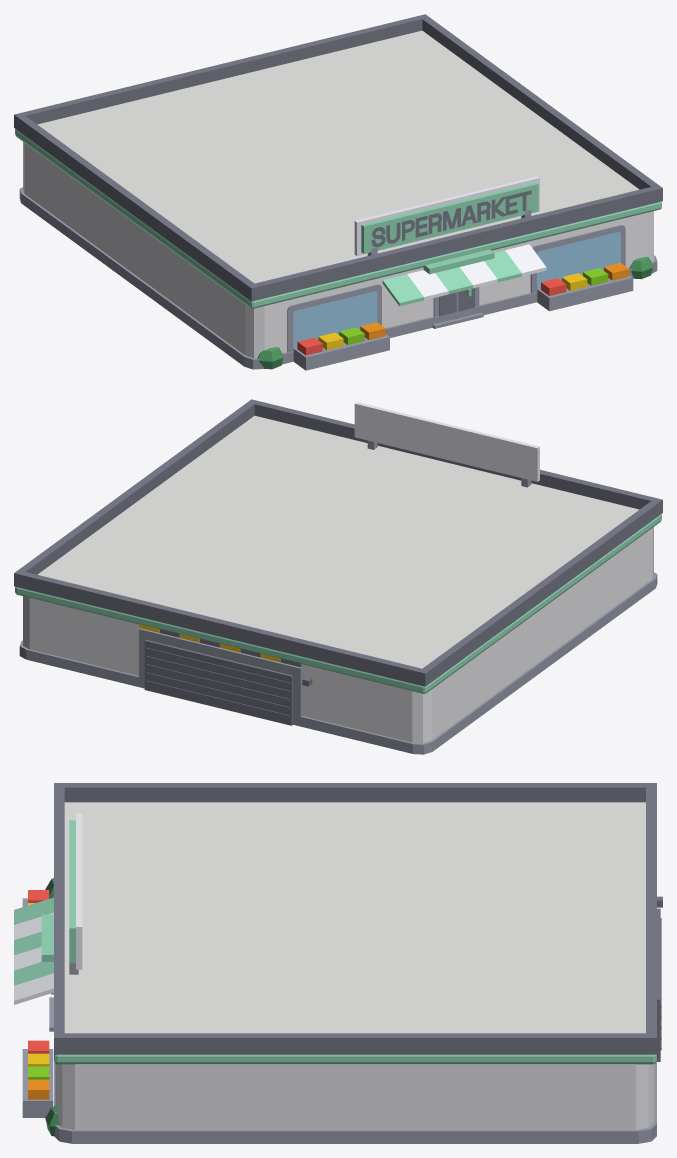
Rendered from supermarket-2x2-t1-tone-a.glb.
3 renders of one model, top to bottom at view 1: azimuth 30°, elevation 25°; view 2: azimuth 150°, elevation 25°; view 3: azimuth 270°, elevation 25°, orthographic. The views are drawn at different scales.
Parts seen in each view (by area): view 1: supermarket-2x2-t1-tone-a; view 2: supermarket-2x2-t1-tone-a; view 3: supermarket-2x2-t1-tone-a.
Part boxes in pixels (left/top/right/bottom): supermarket-2x2-t1-tone-a: left=14, top=14, right=662, bottom=370; supermarket-2x2-t1-tone-a: left=14, top=399, right=662, bottom=754; supermarket-2x2-t1-tone-a: left=14, top=783, right=662, bottom=1143.
Size of the model in its own units: 1.96 by 0.524 by 2.11.
Materials: 1 (1 with a texture image).
